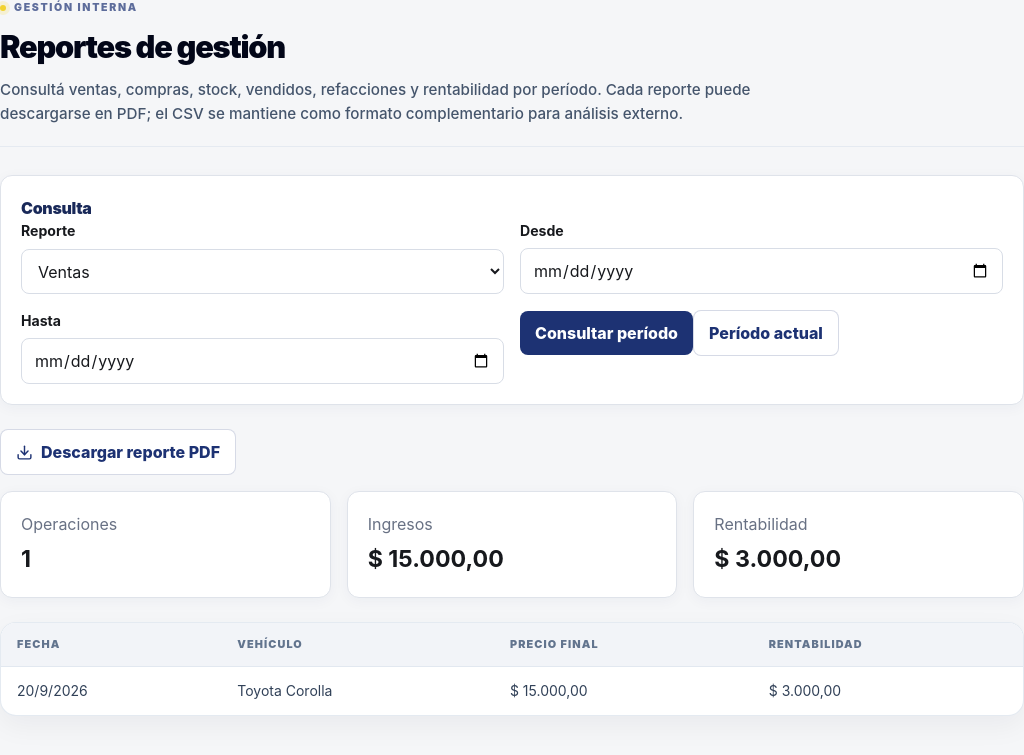
it: ReportesPage CF-02 › permite consultar stock y rentabilidad desde la misma interfaz
Check: the text "Toyota Corolla" is shown, box [221, 667, 494, 715]
Select "Stock al cierre" in the dropdown labelled "Reporte" at (262, 272), box [21, 249, 504, 294]
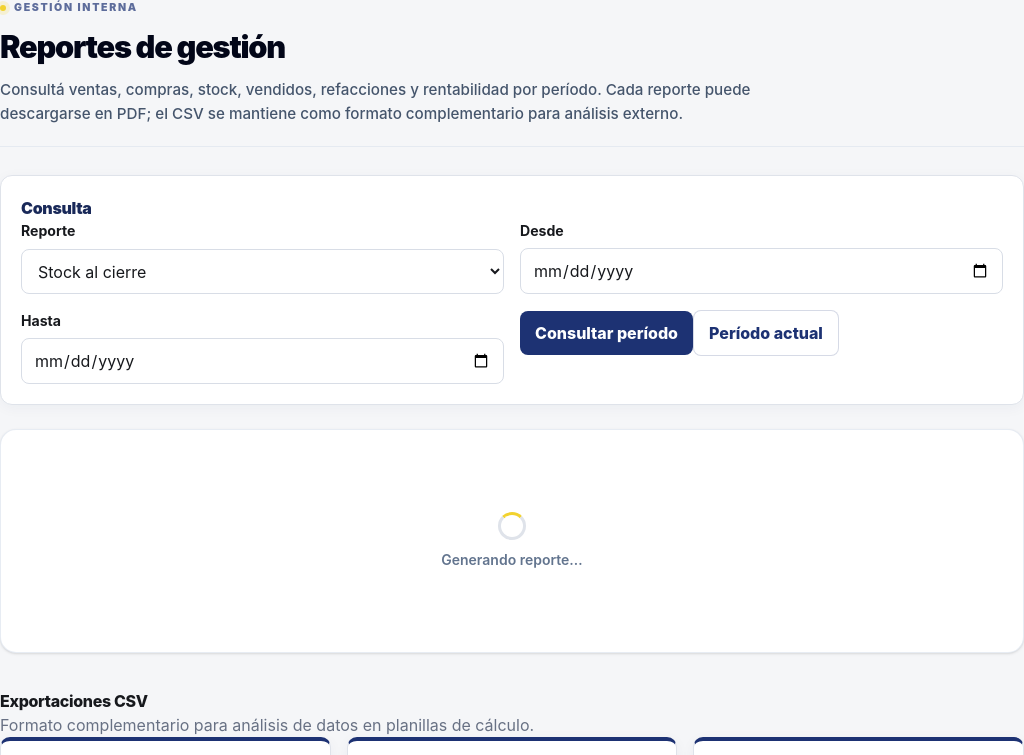
Select "Rentabilidad" in the dropdown labelled "Reporte" at (262, 272), box [21, 249, 504, 294]
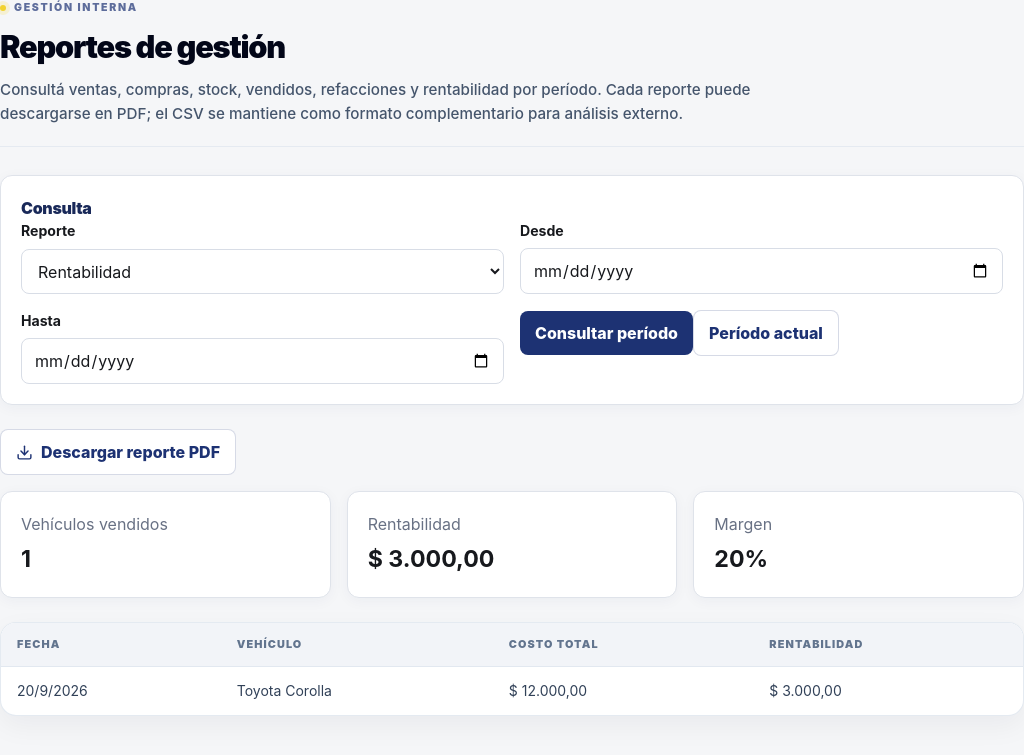
Check: the text "Margen" is shown, box [714, 514, 772, 534]
